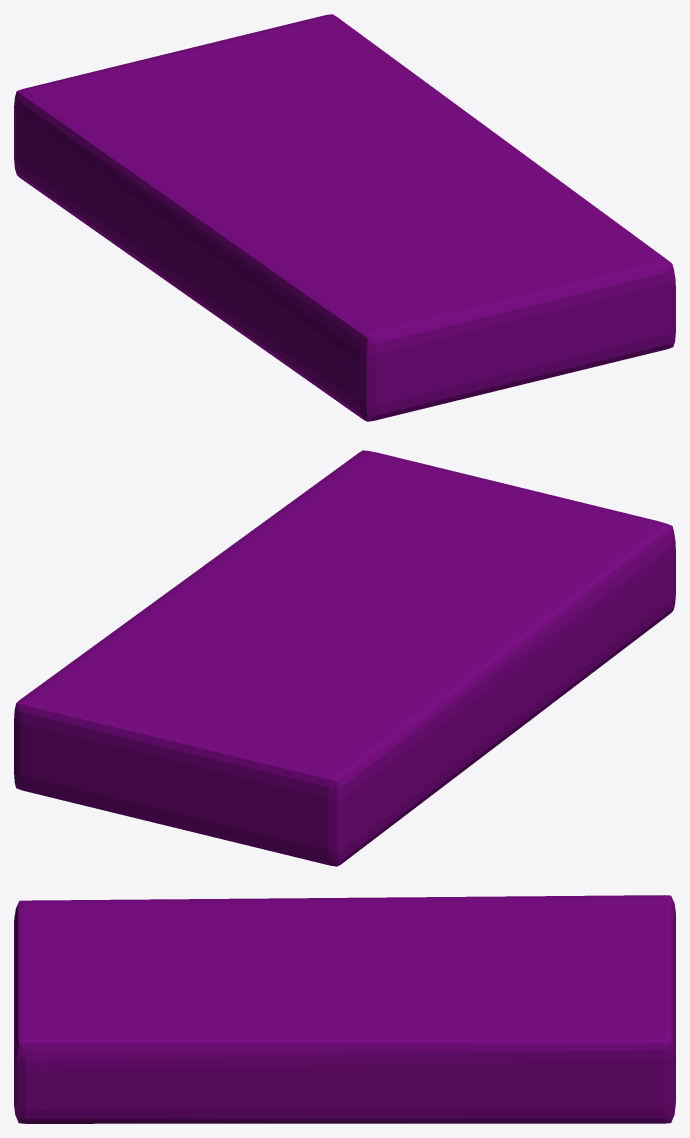
The model's file is right_hip_pitch_link_part_11.obj.
The picture shows the model from 3 angles, top to bottom: view 1: azimuth 30°, elevation 25°; view 2: azimuth 150°, elevation 25°; view 3: azimuth 270°, elevation 25°; orthographic projection. The views are drawn at different scales.
Bounding box in the file's own units: 0.07 × 0.0179 × 0.129.
